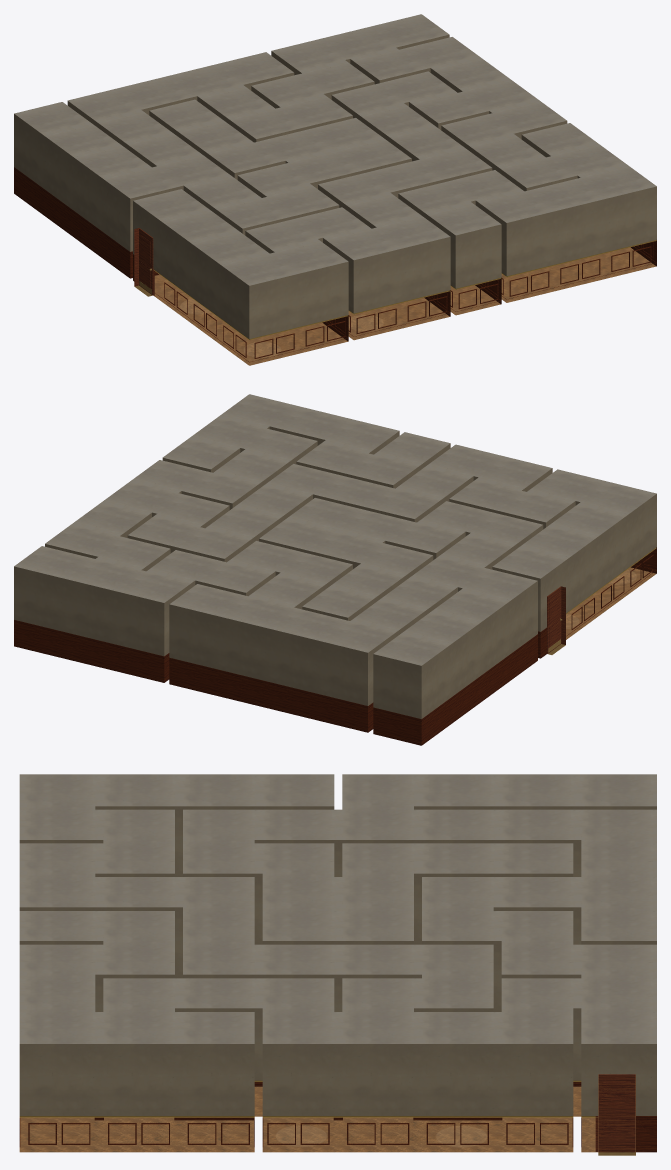
File: maze_05.glb
The picture shows the model from 3 angles, top to bottom: view 1: azimuth 30°, elevation 25°; view 2: azimuth 150°, elevation 25°; view 3: azimuth 270°, elevation 25°; orthographic projection. The views are drawn at different scales.
Visible parts, largest first — view 1: Skin_Ceiling_Plaster.001, Skin_Plaster_Cream.001, Skin_Parquet.001, Skin_Wainscot.001, Props_Wainscot_Trim, DoorLeaf_entry, Props_Gilt; view 2: Skin_Ceiling_Plaster.001, Skin_Plaster_Cream.001, Skin_Wainscot.001, Skin_Parquet.001, DoorLeaf_entry, Props_Wainscot_Trim; view 3: Skin_Ceiling_Plaster.001, Skin_Plaster_Cream.001, Skin_Parquet.001, Props_Wainscot_Trim, DoorLeaf_way_on, Props_Gilt, Skin_Wainscot.001.
Part boxes in pixels (x1,y1,x2,y2): Skin_Ceiling_Plaster.001: (14,14,656,285); Skin_Plaster_Cream.001: (14,34,656,338); Skin_Parquet.001: (153,247,656,365); Skin_Wainscot.001: (14,167,656,340); Props_Wainscot_Trim: (153,242,656,362); DoorLeaf_entry: (139,228,153,295); Props_Gilt: (153,240,656,339); Skin_Ceiling_Plaster.001: (14,394,656,665); Skin_Plaster_Cream.001: (14,426,656,718); Skin_Wainscot.001: (14,547,656,745); Skin_Parquet.001: (566,567,656,639); DoorLeaf_entry: (547,586,562,653); Props_Wainscot_Trim: (566,552,656,636); Skin_Ceiling_Plaster.001: (19,774,656,1043); Skin_Plaster_Cream.001: (19,806,656,1115); Skin_Parquet.001: (19,1074,635,1152); Props_Wainscot_Trim: (19,1082,581,1147); DoorLeaf_way_on: (598,1074,635,1152); Props_Gilt: (19,1080,597,1117); Skin_Wainscot.001: (636,1116,656,1152).
Bounding box in the file's own units: 16.4 × 3 × 16.14.
Materials: 18 (14 with a texture image).
